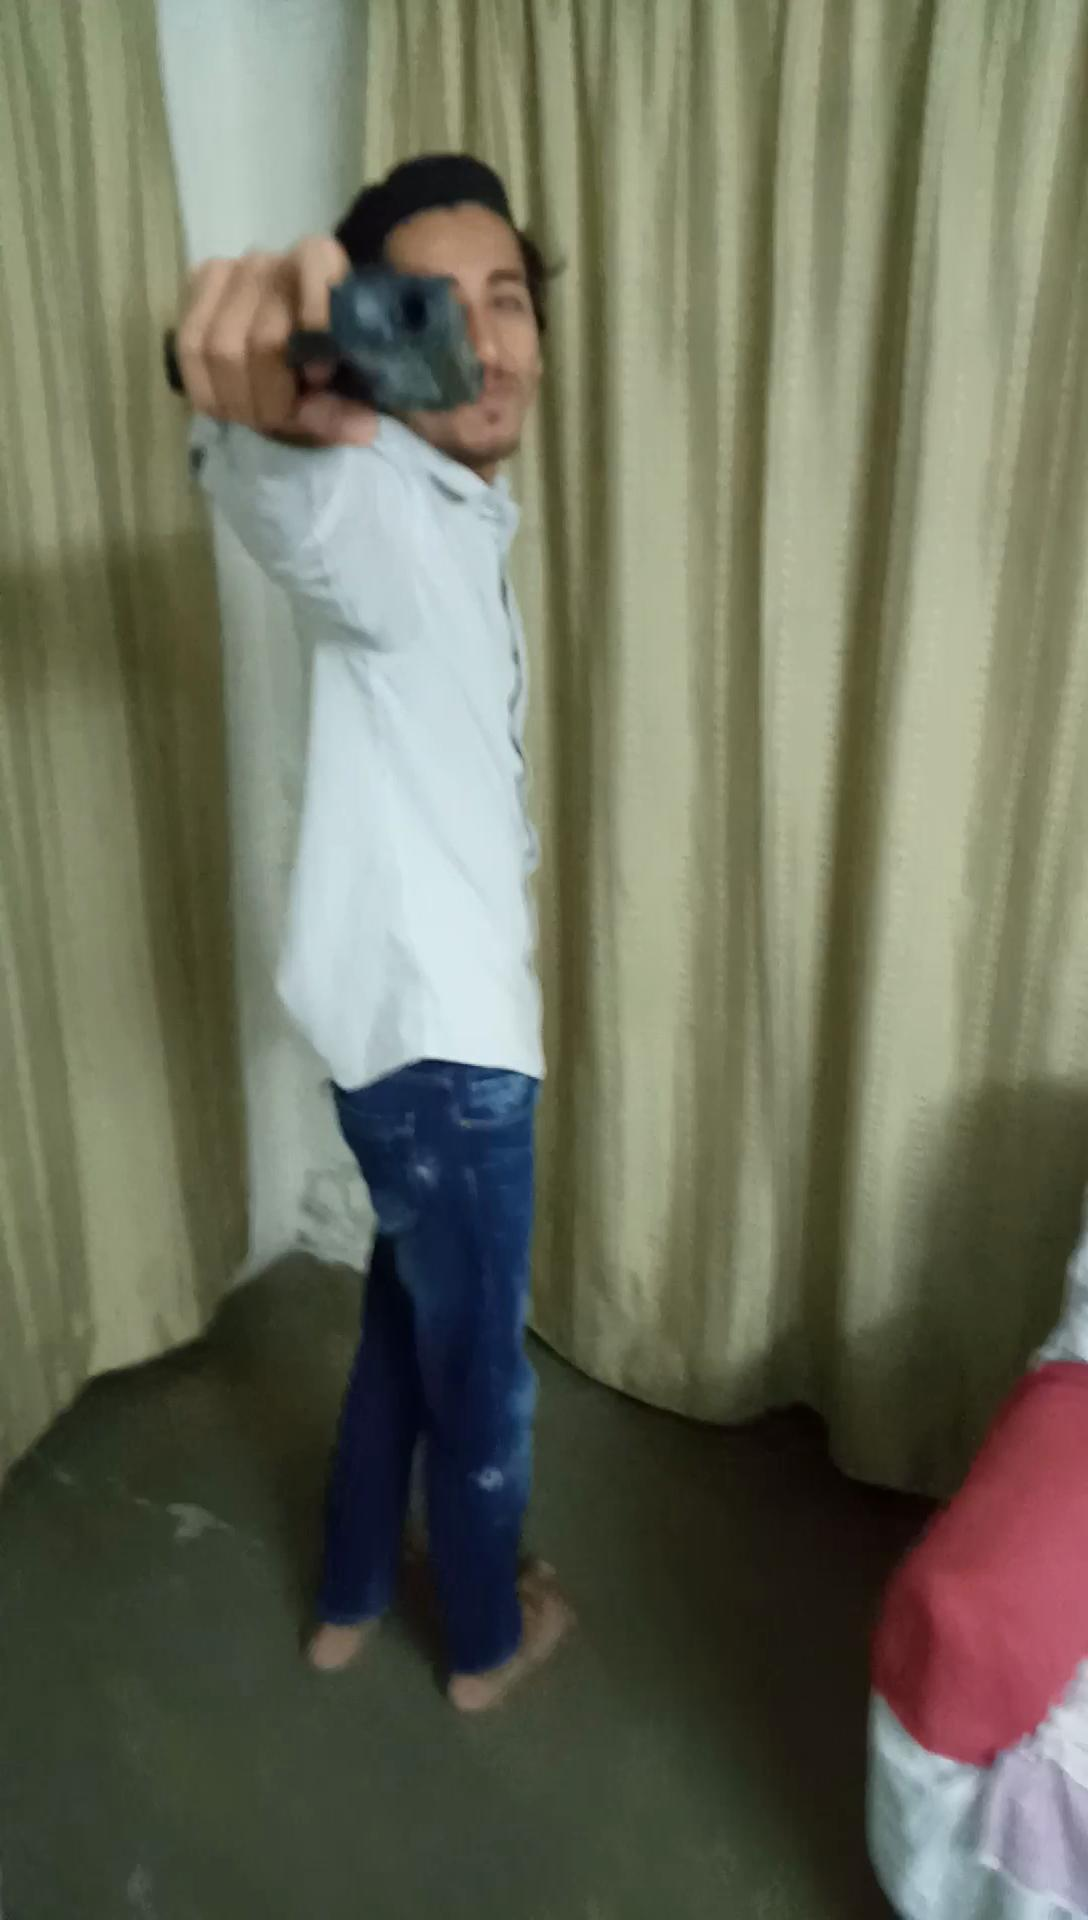criminal: (144, 141, 586, 1725)
weapon: (152, 251, 501, 425)
